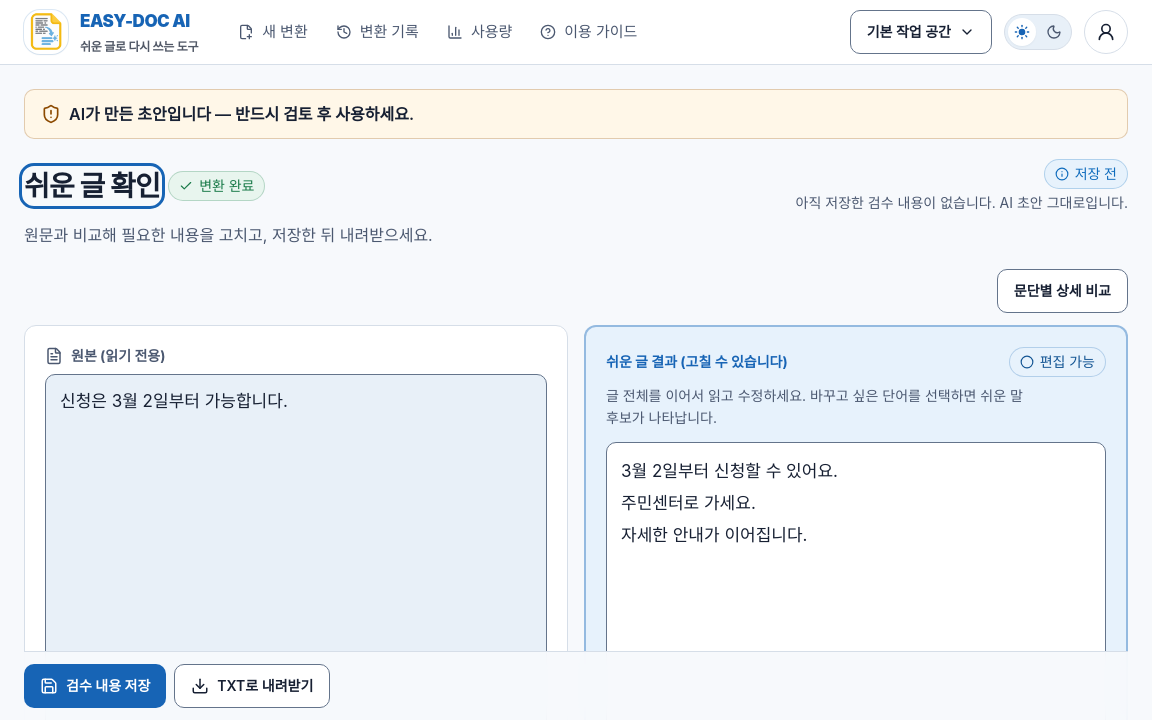
Test: ③  입력과 오류의 프로그램적 연결 › 검수 (문단 대응표) 화면의 aria 참조가 실재하는 요소를 가리킨다
The width and height of the screenshot is (1152, 720).
Click the button "문단별 상세 비교" at (1062, 291), box [997,269,1128,313]
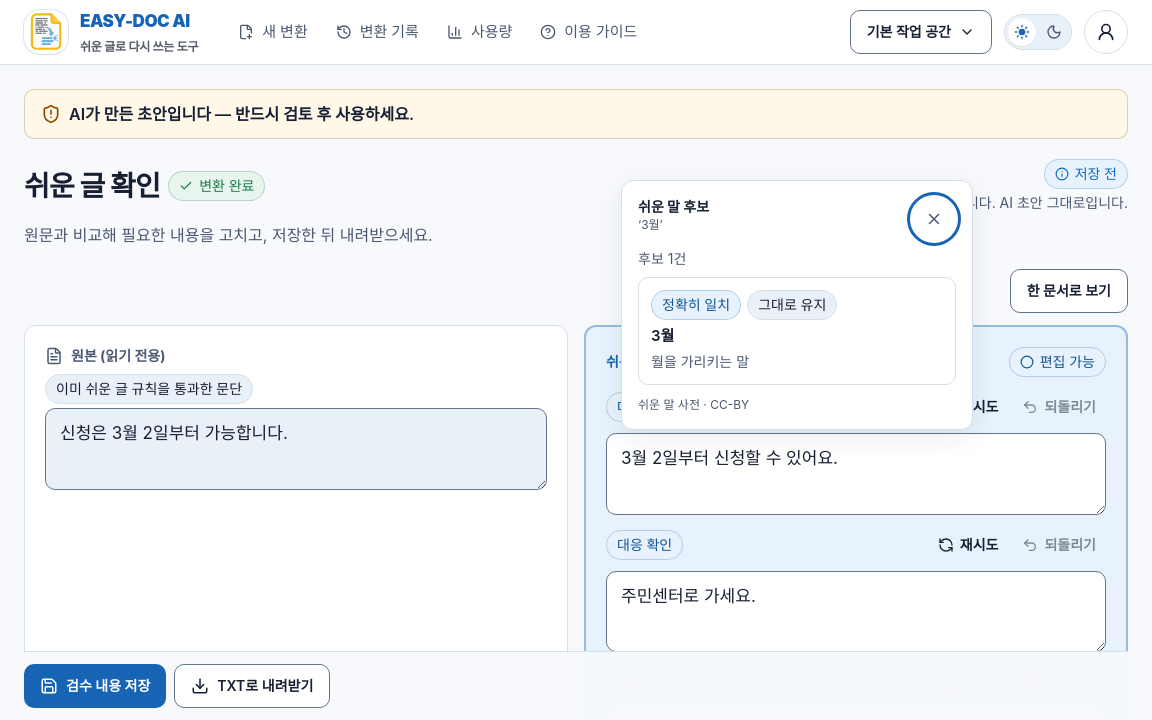
Expected: the heading "쉬운 글 확인" is shown, [24,168,160,204]
Result: the dialog "쉬운 말 후보" is shown at [621,180,973,430]
